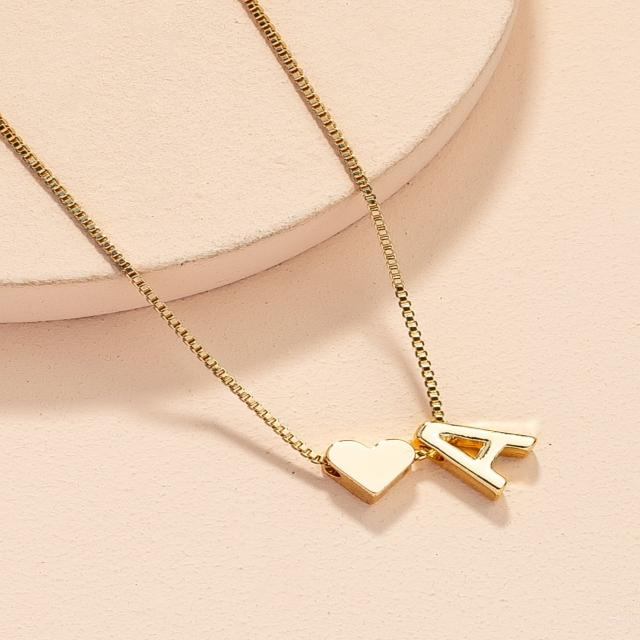bracelet: (10, 0, 582, 559)
